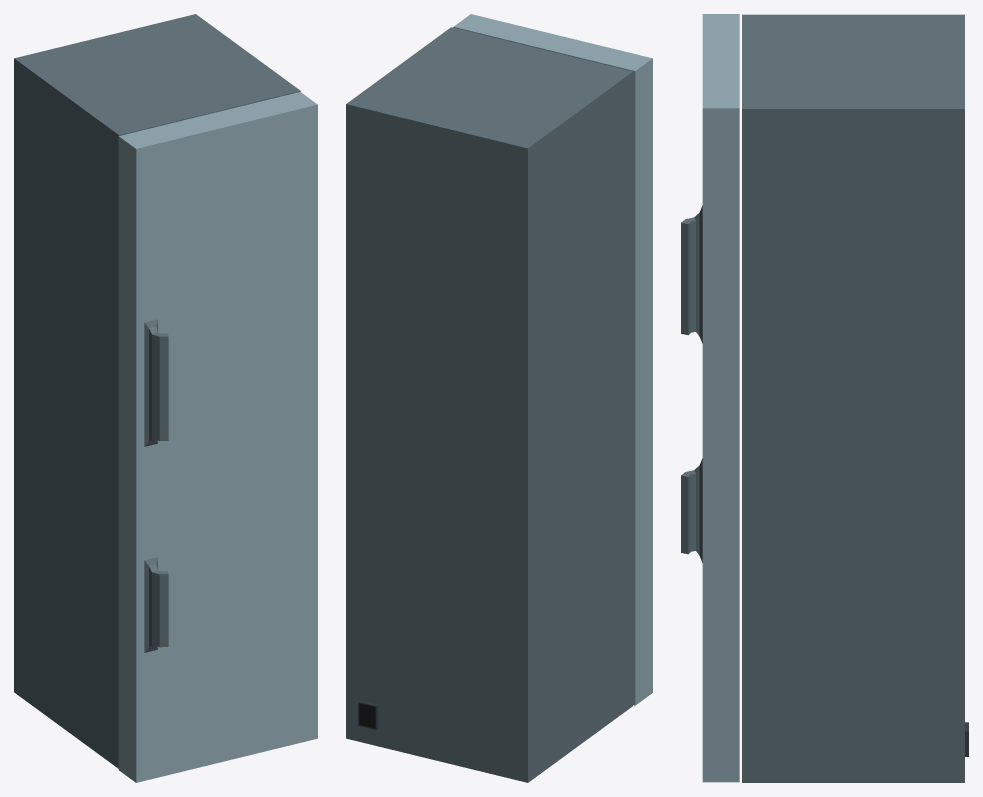
File: KA-F600_Fridge_V1.fbx
The picture shows the model from 3 angles, left to right: view 1: azimuth 30°, elevation 25°; view 2: azimuth 150°, elevation 25°; view 3: azimuth 270°, elevation 25°; orthographic projection. The views are drawn at different scales.
Visible parts, largest first — view 1: KA-F600_Fridge_V1, KA-F600_Fridge_V1_DoorInDoor, KA-F600_Fridge_V1_Door; view 2: KA-F600_Fridge_V1, KA-F600_Fridge_V1_DoorInDoor, KA-F600_Fridge_V1_Door; view 3: KA-F600_Fridge_V1, KA-F600_Fridge_V1_DoorInDoor, KA-F600_Fridge_V1_Door.
Part boxes in pixels (bbox=[...]): KA-F600_Fridge_V1: bbox=[14, 14, 300, 768]; KA-F600_Fridge_V1_DoorInDoor: bbox=[120, 93, 317, 529]; KA-F600_Fridge_V1_Door: bbox=[118, 92, 317, 782]; KA-F600_Fridge_V1: bbox=[346, 27, 632, 782]; KA-F600_Fridge_V1_DoorInDoor: bbox=[455, 14, 652, 450]; KA-F600_Fridge_V1_Door: bbox=[453, 25, 652, 705]; KA-F600_Fridge_V1: bbox=[742, 14, 968, 782]; KA-F600_Fridge_V1_DoorInDoor: bbox=[681, 14, 735, 512]; KA-F600_Fridge_V1_Door: bbox=[681, 14, 739, 782].
Size of the model in its own units: 60.43 by 200 by 77.44.
